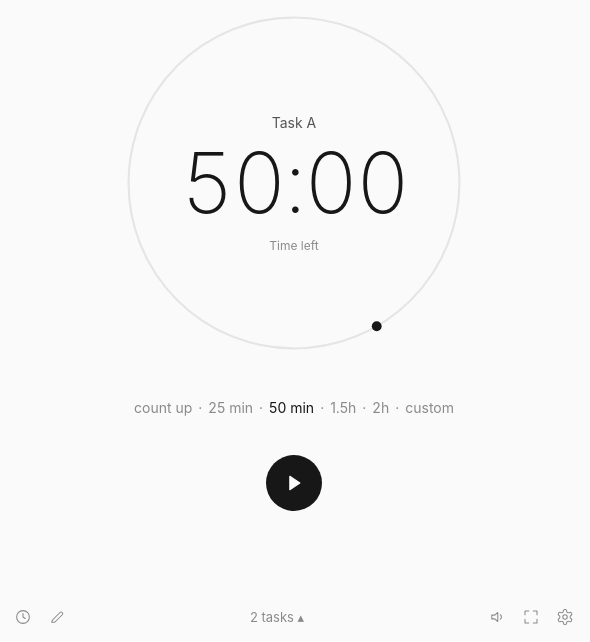
Focus screen › duration words show before the block starts and hide after
The width and height of the screenshot is (590, 642).
Click the radio button labelled "25 min" at (231, 407), box [208,393,253,422]
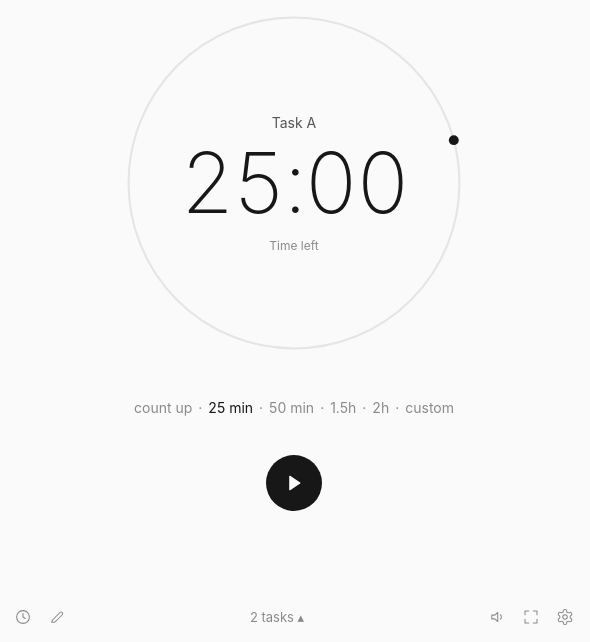
Click the button named "Play" at (294, 483), box [266,455,322,511]
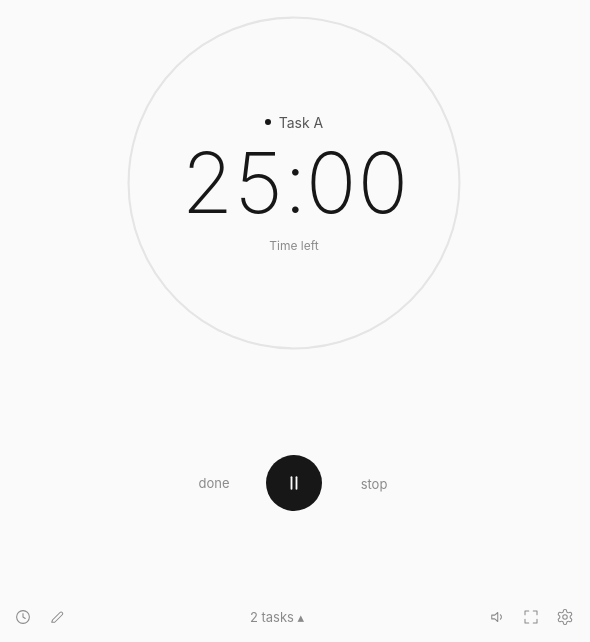
Now the element "Duration" is gone
